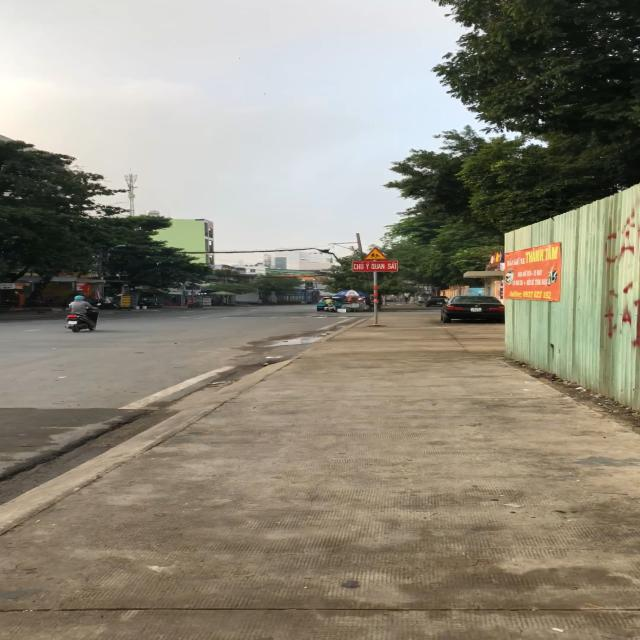Bien bao tre em: (360, 246, 389, 260)
